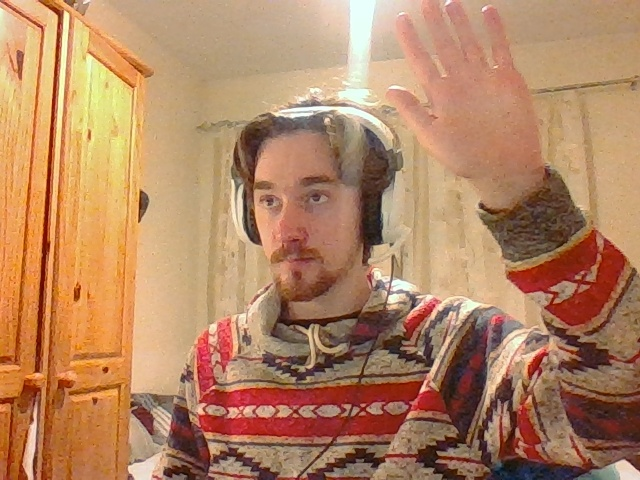hello: (379, 1, 546, 185)
